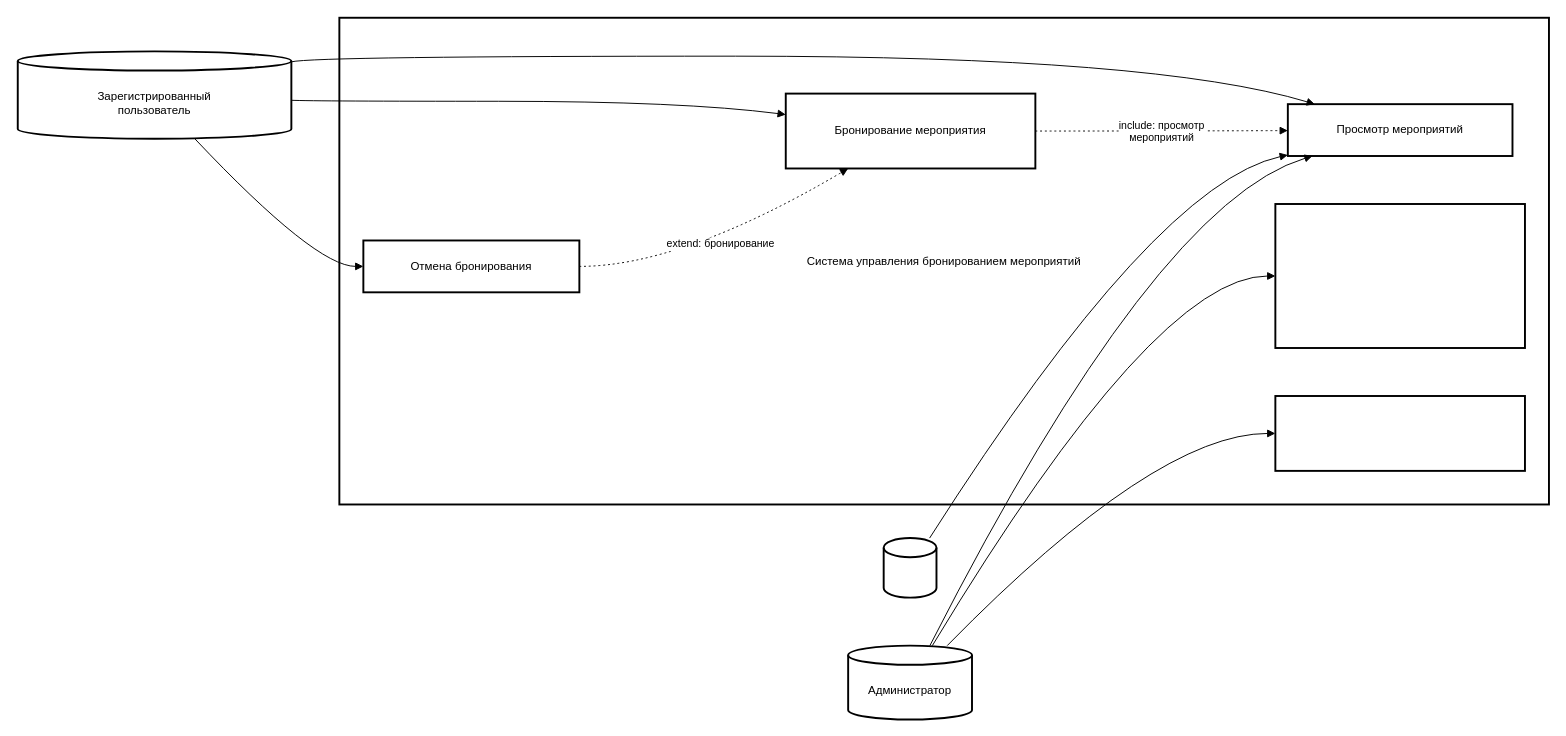
Image size: 1566x736. Some labels were removed from this diagram. Each missing label, with the centre of its shape:
Гость: pixel 909 567
Просмотр всех бронирований: pixel 1399 433
Управление мероприятиями (добавление/редактирование/удаление): pixel 1399 275
